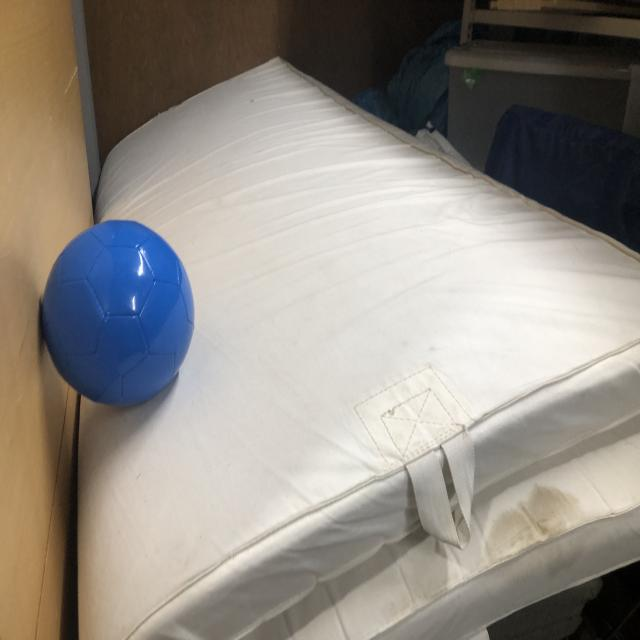blue_ball: (42, 214, 195, 407)
